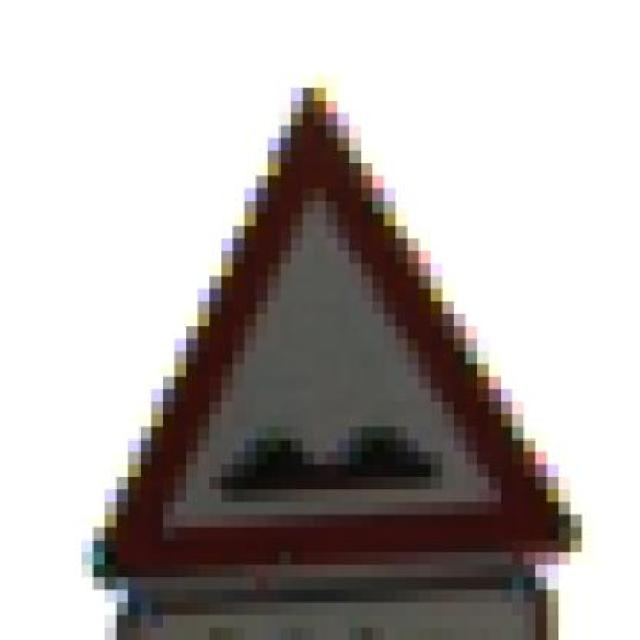Uneven Road: (53, 91, 601, 568)
